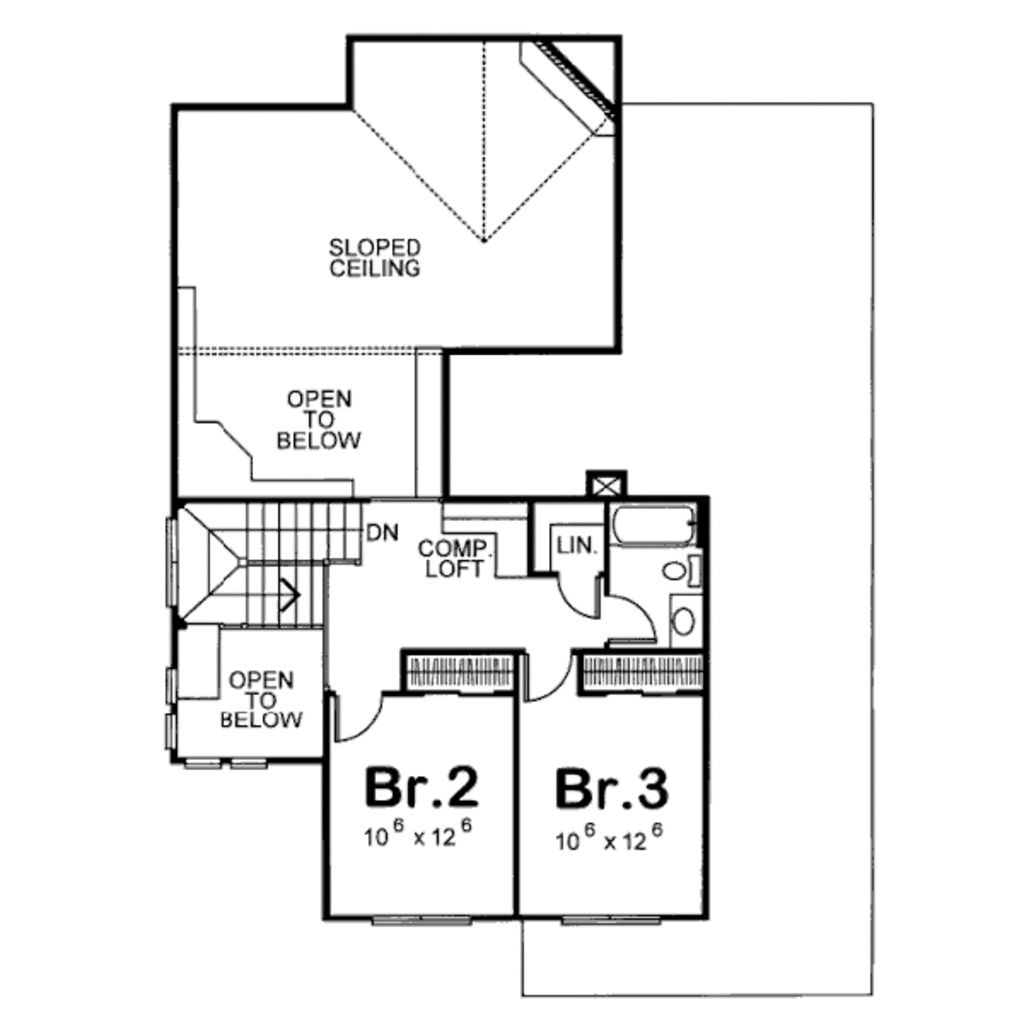door: (322, 685, 384, 744), (600, 584, 654, 646), (514, 647, 573, 703), (560, 563, 602, 625)
large_sink: (660, 557, 700, 585)
small_sink: (673, 597, 703, 655)
stairs: (176, 503, 362, 627)
tub: (606, 492, 700, 546)
window: (562, 911, 664, 932), (181, 751, 272, 774), (365, 909, 472, 927), (159, 519, 179, 608), (165, 665, 178, 760)
